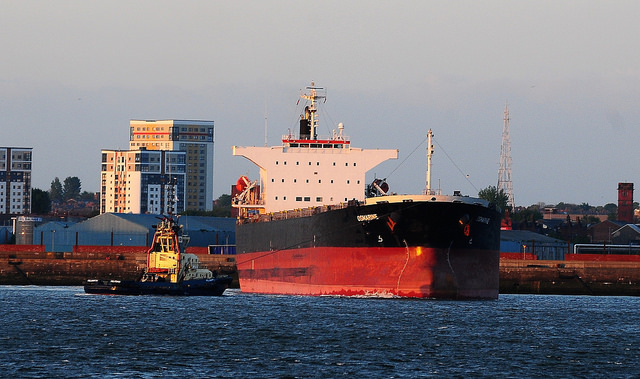bulk carrier: (232, 80, 501, 299)
tug_boat: (84, 207, 230, 295)
